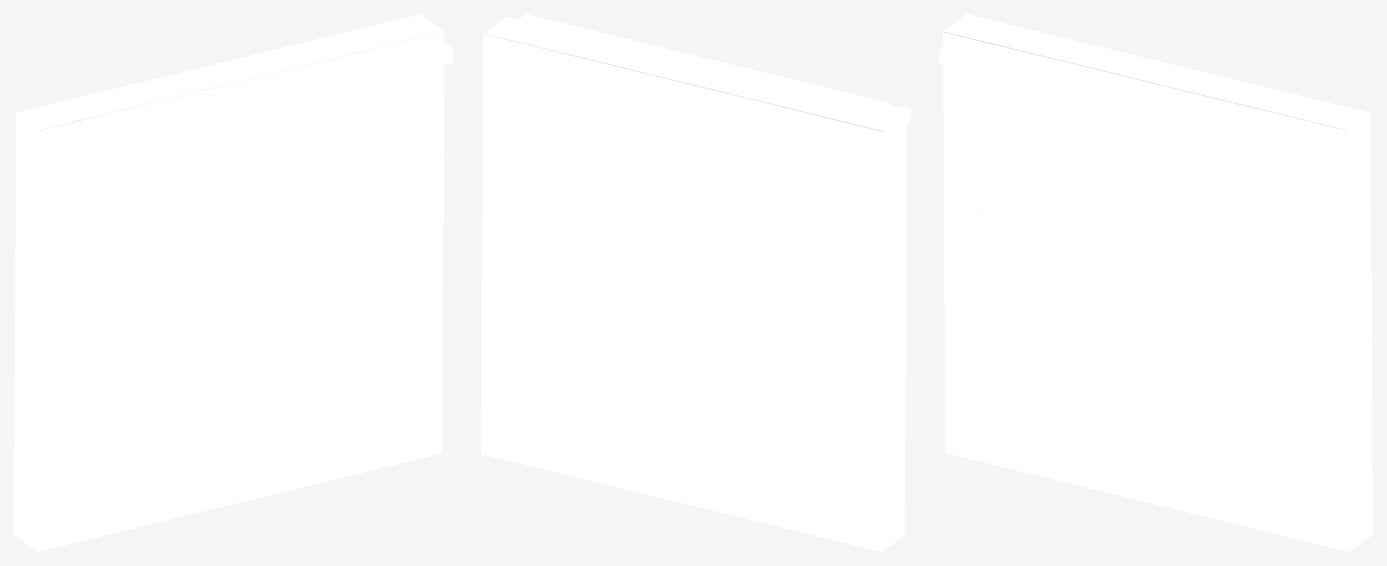
The picture shows the model from 3 angles, left to right: view 1: azimuth 30°, elevation 25°; view 2: azimuth 150°, elevation 25°; view 3: azimuth 330°, elevation 25°; orthographic projection.
Parts seen in each view (by area): view 1: E_W_2; view 2: E_W_2; view 3: E_W_2.
Boxes of the visible parts, <box> form: E_W_2: <box>14,14,452,551</box>; E_W_2: <box>481,14,910,551</box>; E_W_2: <box>939,14,1372,551</box>.
Size of what is drawn, in the model's own units: 293 by 294 by 49.82.
Materials: 1 (1 with a texture image).
